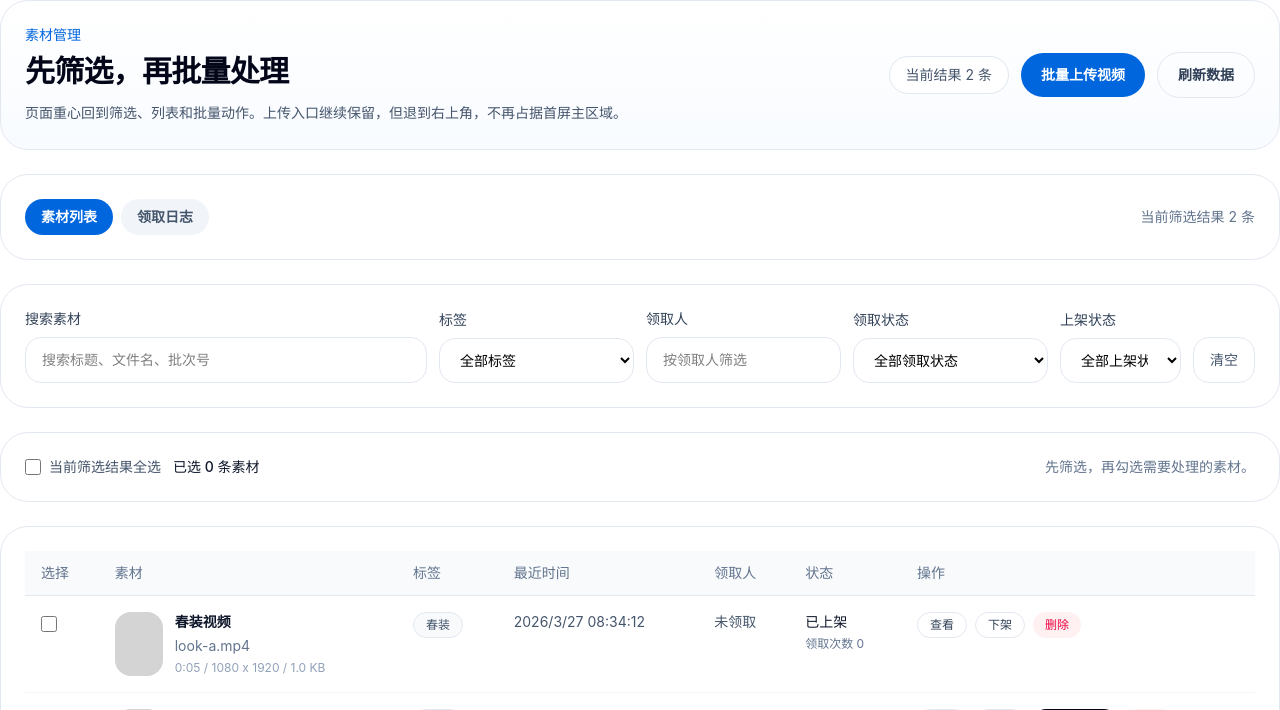
Test: AdminMaterialsClient › shows batch toolbar after selecting materials
Click the checkbox named "选择素材 春装视频".
click(49, 624)  # box top-left (41, 616), bottom-right (57, 632)
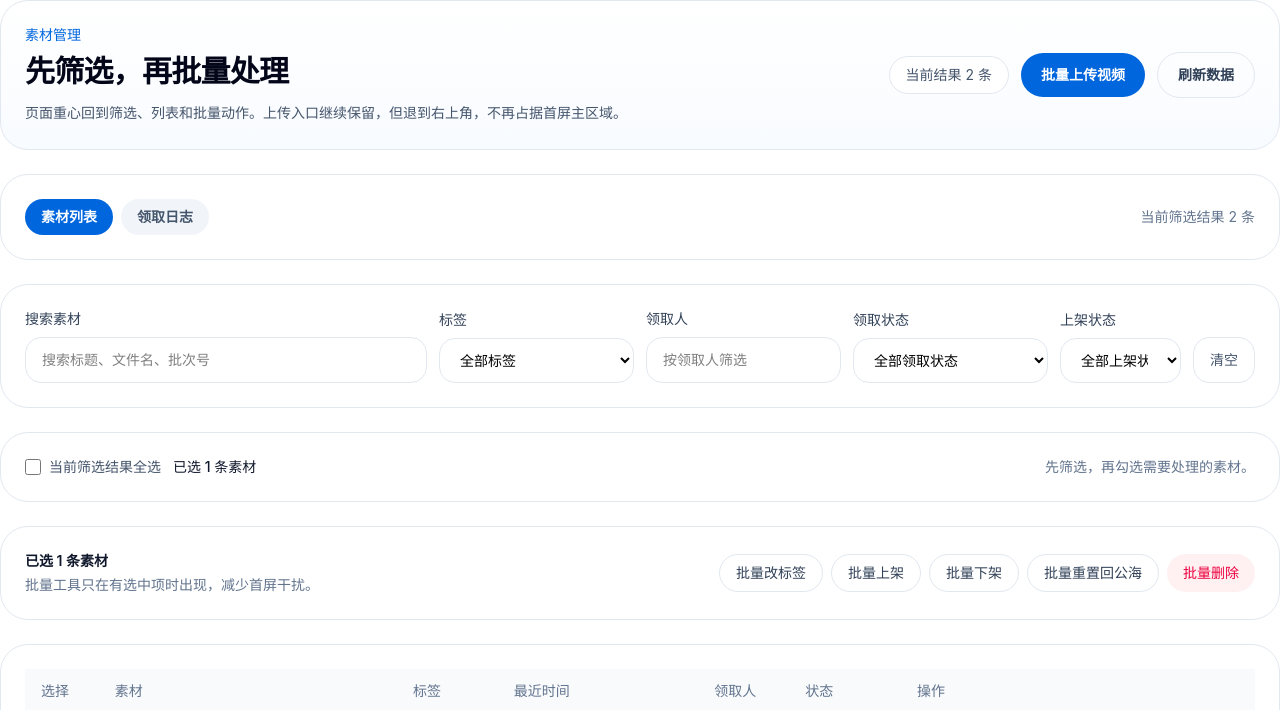
Now the element with test id "admin-material-bulk-toolbar" is shown, box top-left (25, 551), bottom-right (1255, 595)
Now the button "批量改标签" is shown, box top-left (719, 554), bottom-right (823, 592)
Now the button "批量下架" is shown, box top-left (929, 554), bottom-right (1019, 592)
